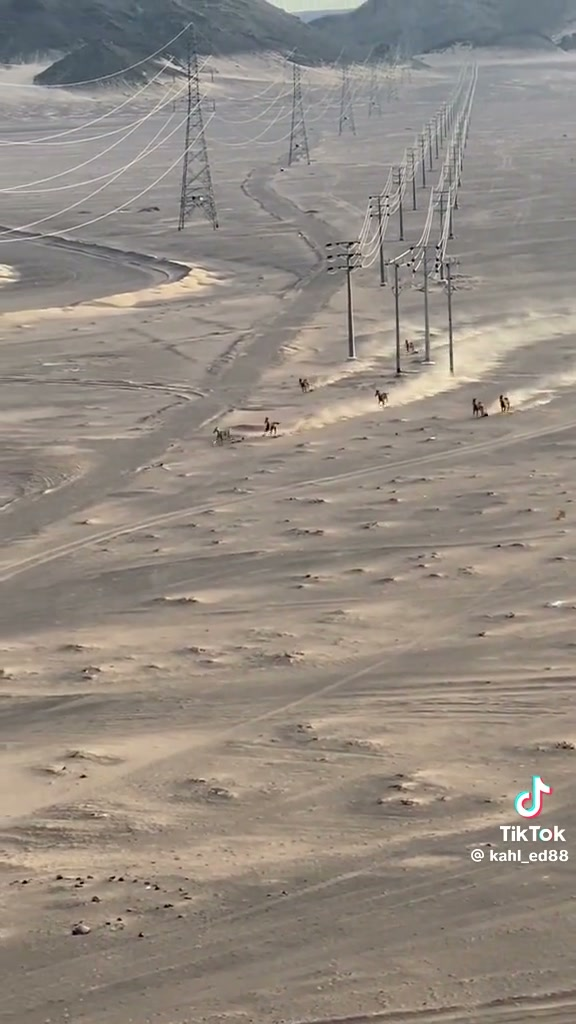animal: (213, 427, 229, 444), (264, 416, 278, 435), (375, 389, 388, 406)
vehicle_track: (214, 620, 437, 741), (259, 420, 575, 497), (294, 990, 575, 1023), (0, 375, 205, 400)
